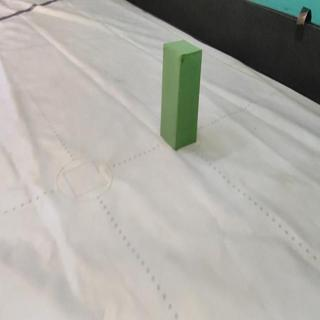greenbox: (159, 39, 203, 153)
